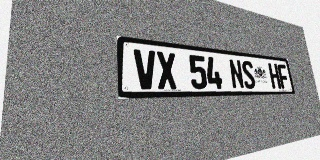4: (205, 56, 223, 89)
5: (189, 55, 208, 89)
F: (277, 64, 290, 89)
H: (268, 63, 281, 89)
N: (228, 59, 245, 89)
S: (241, 60, 256, 89)
V: (133, 49, 158, 89)
X: (156, 51, 178, 89)
